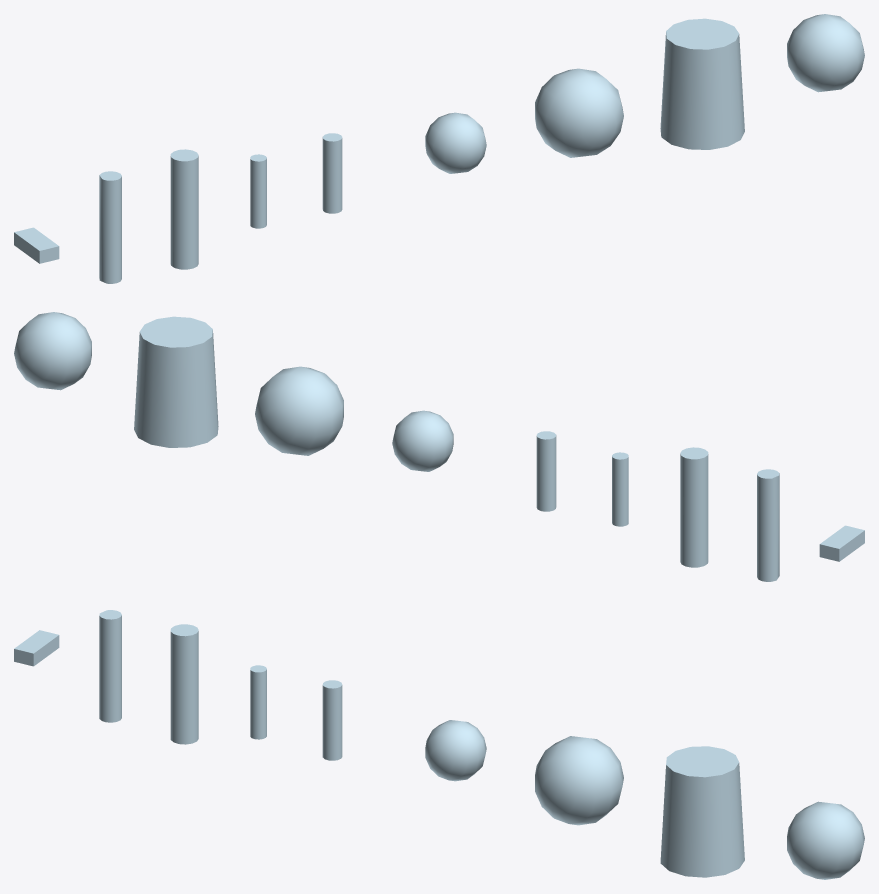
The model's file is crowd_kit_lod1.glb.
The picture shows the model from 3 angles, top to bottom: view 1: azimuth 30°, elevation 25°; view 2: azimuth 150°, elevation 25°; view 3: azimuth 330°, elevation 25°; orthographic projection.
Parts seen in each view (by area): view 1: Person torso, Person chest, Person hip, Person thigh, Person head, Person shin, Person upper arm, Person forearm, Person foot; view 2: Person torso, Person chest, Person hip, Person thigh, Person head, Person shin, Person upper arm, Person forearm, Person foot; view 3: Person torso, Person chest, Person hip, Person thigh, Person head, Person shin, Person upper arm, Person forearm, Person foot.
Boxes of the visible parts, x1,y1,x2,y2 form: Person torso: [660, 18, 744, 149]; Person chest: [535, 68, 623, 157]; Person hip: [787, 14, 864, 92]; Person thigh: [170, 149, 198, 269]; Person head: [425, 112, 486, 173]; Person shin: [99, 171, 121, 283]; Person upper arm: [322, 133, 342, 213]; Person forearm: [250, 154, 266, 228]; Person foot: [14, 227, 59, 263]; Person torso: [134, 316, 218, 447]; Person chest: [255, 366, 343, 455]; Person hip: [14, 312, 91, 390]; Person thigh: [680, 447, 708, 567]; Person head: [392, 410, 453, 471]; Person shin: [757, 469, 779, 581]; Person upper arm: [536, 431, 556, 511]; Person forearm: [612, 452, 628, 526]; Person foot: [819, 525, 864, 561]; Person torso: [660, 746, 744, 877]; Person chest: [535, 736, 623, 825]; Person hip: [787, 801, 864, 879]; Person thigh: [170, 624, 198, 744]; Person head: [425, 720, 486, 781]; Person shin: [99, 610, 121, 722]; Person upper arm: [322, 680, 342, 760]; Person forearm: [250, 665, 266, 739]; Person foot: [14, 630, 59, 666].
Size of the model in its own units: 3.38 by 0.42 by 0.32.
